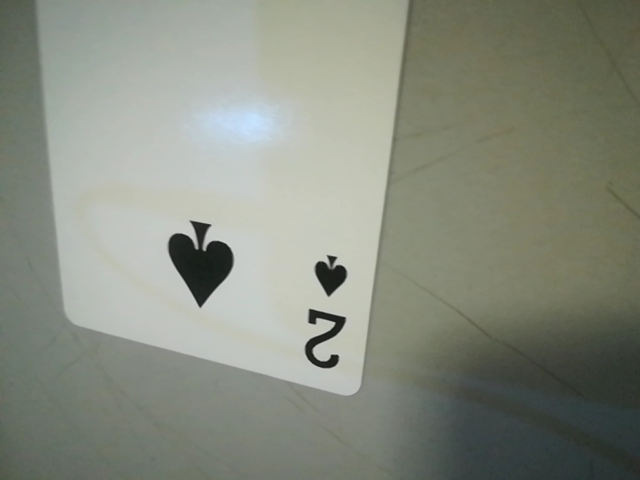ht 2: (286, 235, 365, 383)
